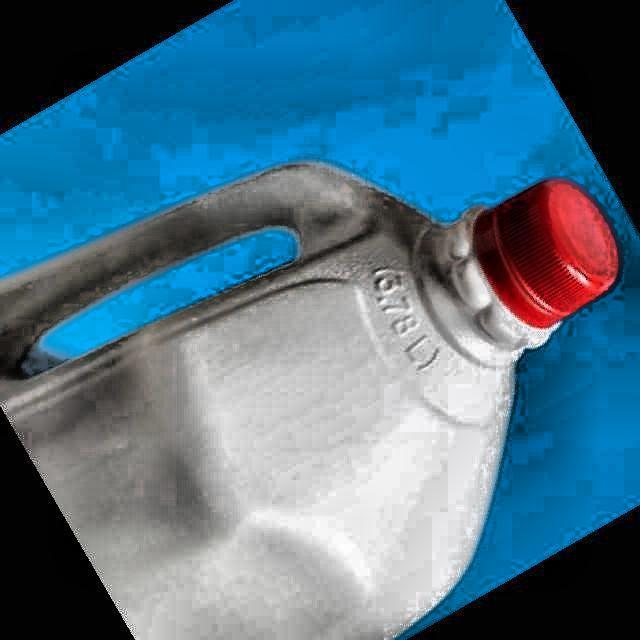plastic: (0, 163, 620, 639)
